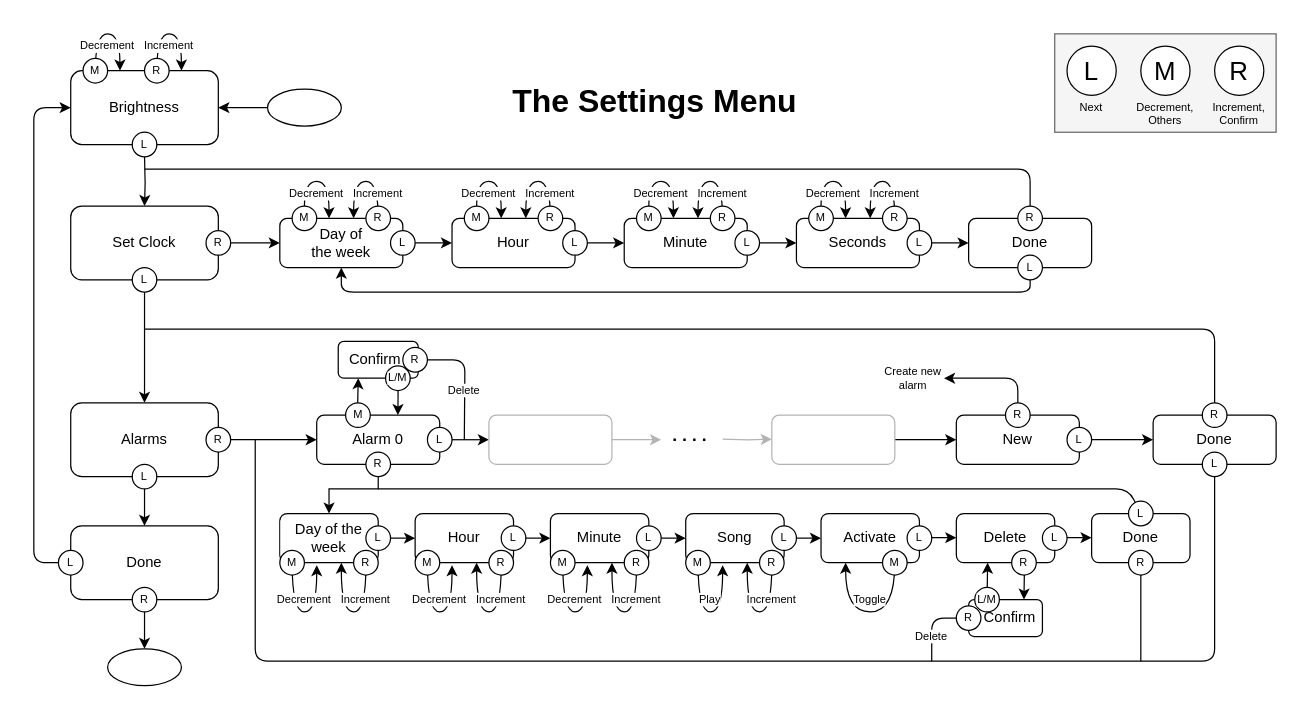
Some shapes in this 1309 by 718 pixel diagram are drawn without their labels. Here are the shapes that lost their labels. From the top down, the centre of each, then its label:
At point (303, 107): "Start".
At point (550, 439): "Alarm 1".
At point (833, 439): "Alarm N".
At point (143, 667): "Exit".
